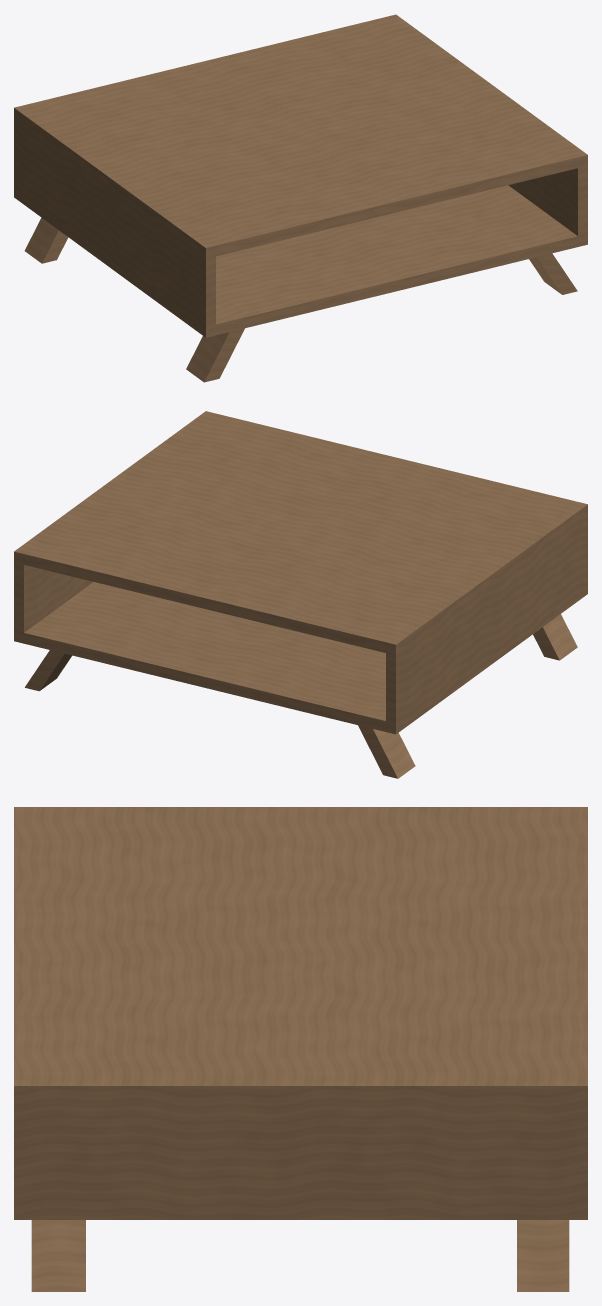
Rendered from 07_coffee_table2.glb.
3 views of the same model, one above another, from view 1: azimuth 30°, elevation 25°; view 2: azimuth 150°, elevation 25°; view 3: azimuth 270°, elevation 25° (orthographic). The views are drawn at different scales.
Parts seen in each view (by area): view 1: CoffeeTable; view 2: CoffeeTable; view 3: CoffeeTable.
Boxes of the visible parts, x1,y1,x2,y2 form: CoffeeTable: (14,14,587,382); CoffeeTable: (14,411,587,778); CoffeeTable: (14,807,587,1291).
Size of the model in its own units: 1.46 by 0.5113 by 1.27.
1 material, 1 textured.
